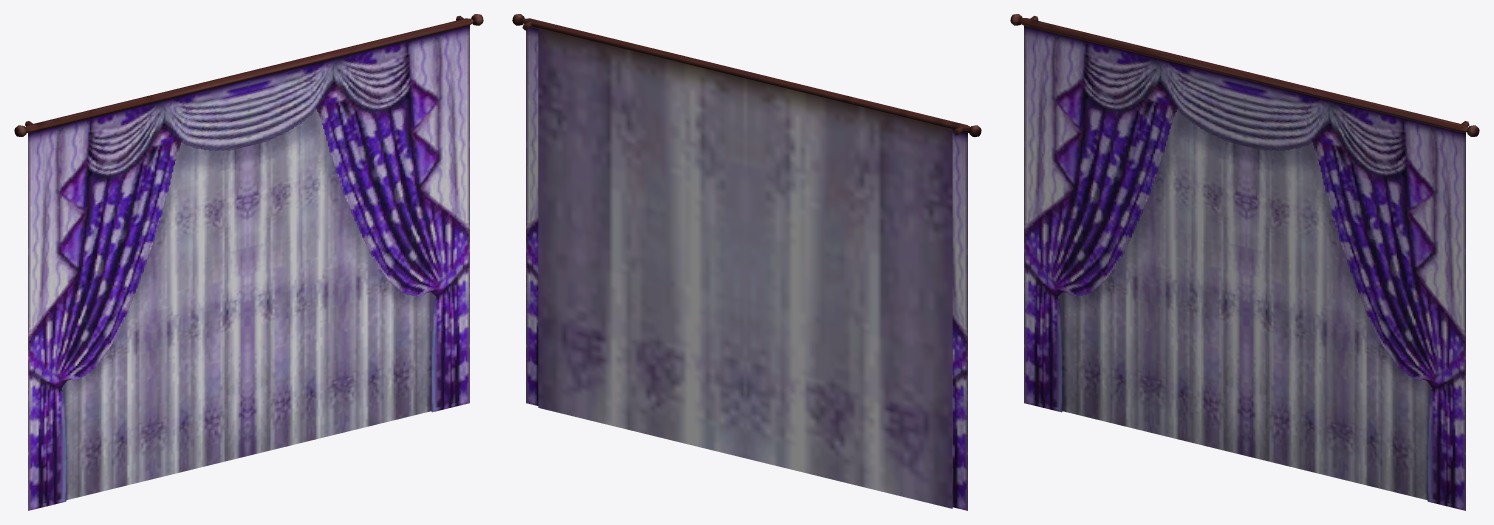
The model's file is furni_0201135.FBX.
The picture shows the model from 3 angles, left to right: view 1: azimuth 30°, elevation 25°; view 2: azimuth 150°, elevation 25°; view 3: azimuth 330°, elevation 25°; orthographic projection.
Parts seen in each view (by area): view 1: furni_0201135; view 2: furni_0201135; view 3: furni_0201135.
Boxes of the visible parts, x1,y1,x2,y2 form: furni_0201135: (14, 14, 483, 510); furni_0201135: (512, 14, 981, 510); furni_0201135: (1010, 14, 1479, 510).
Size of the model in its own units: 353 by 279 by 12.24.
2 materials, 2 textured.
